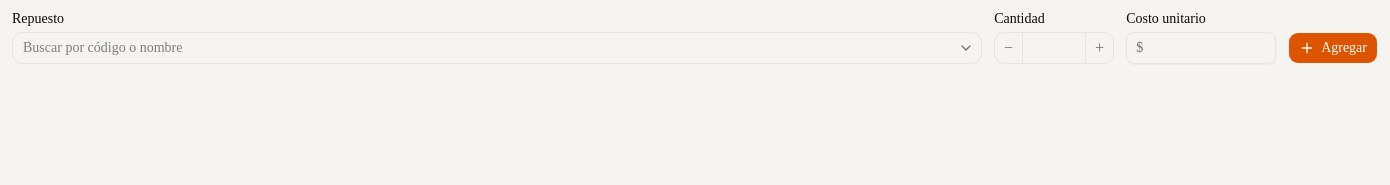
Scenario: AgregarEntradaItemForm › selecting a repuesto prefills its last cost and shows the current stock flow
The width and height of the screenshot is (1390, 185).
Click the dropdown labelled "Repuesto": (497, 48) [12,32,982,64]
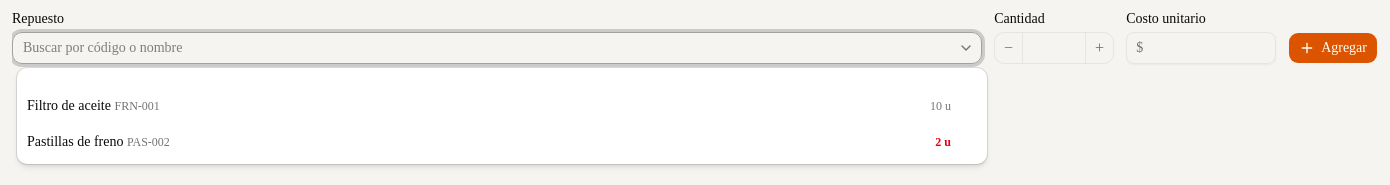
Click the option "Filtro de aceite FRN-001 10 u": (69, 106) [27,98,951,113]
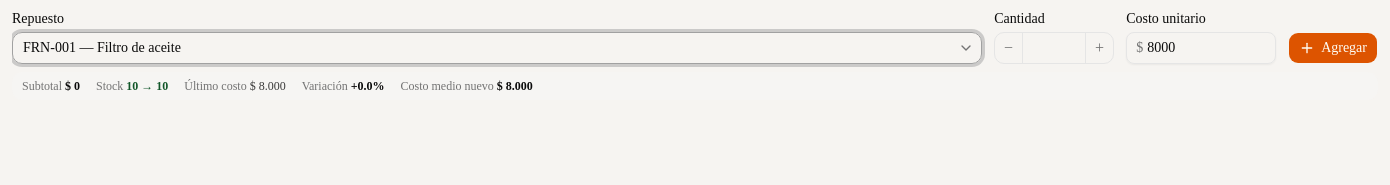
Result: the number field labelled "Costo unitario" holds "8000" at [1126,32,1276,64]
Result: the text "10 → 10" is shown at [126,79,168,93]
Result: the text "Último costo $ 8.000" is shown at [184,78,286,94]
